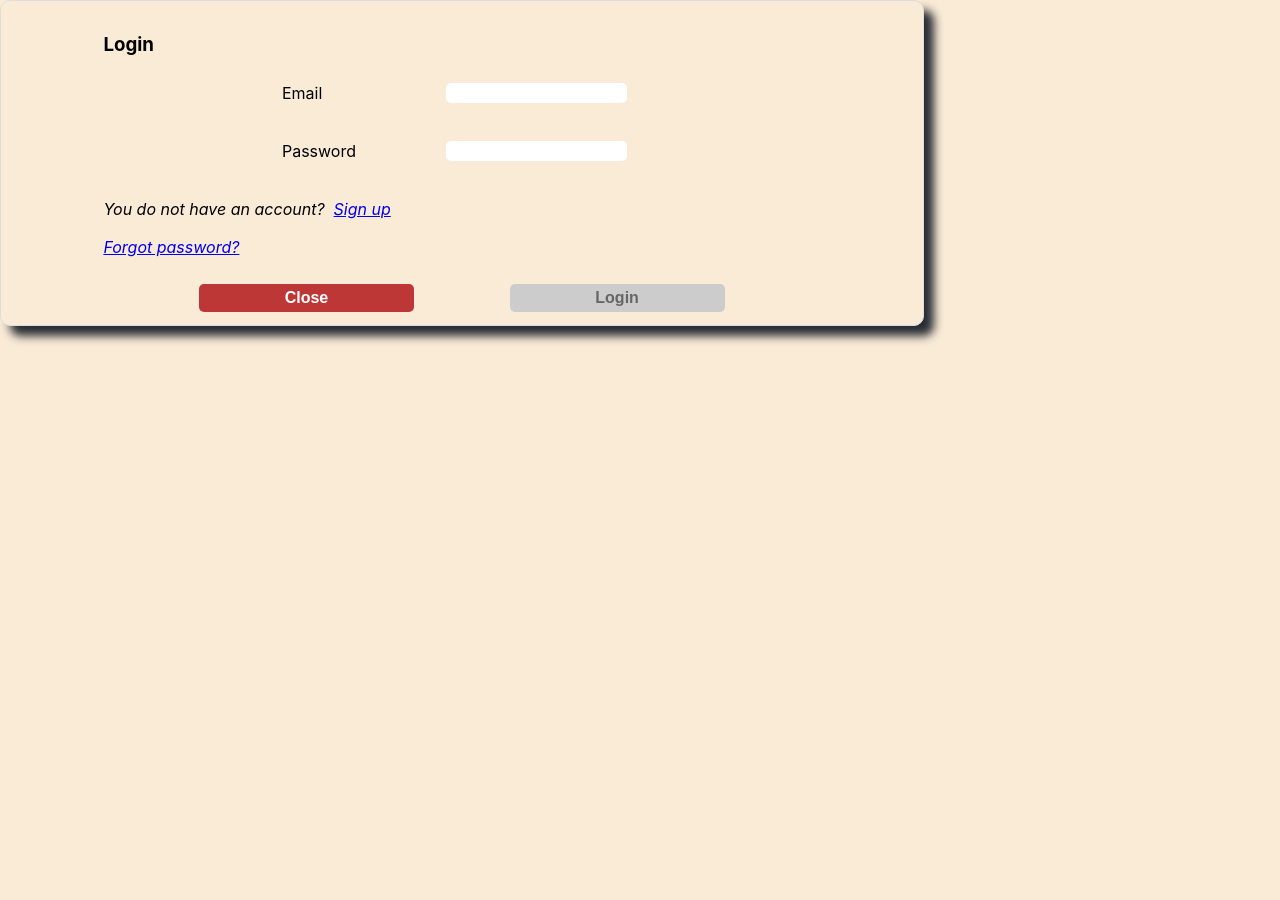
Test: Login › goes back to the page that required the login
This screenshot has width=1280, height=900.
In the field labelled "Email": point(537, 93) x1=446 y1=83 x2=627 y2=103, type "ash@pallet.town"
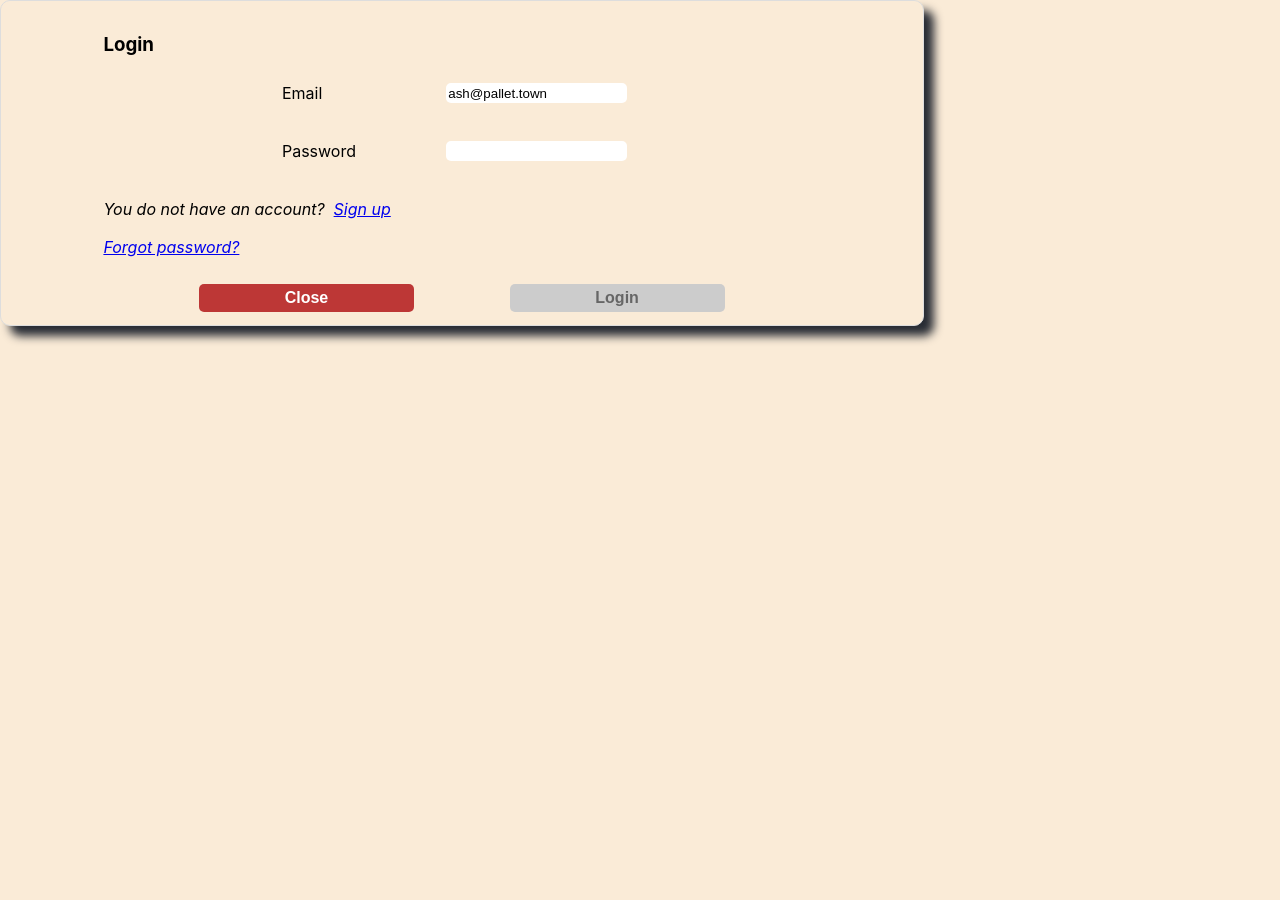
In the password field labelled "Password": point(537, 151) x1=446 y1=141 x2=627 y2=161, type "secret"
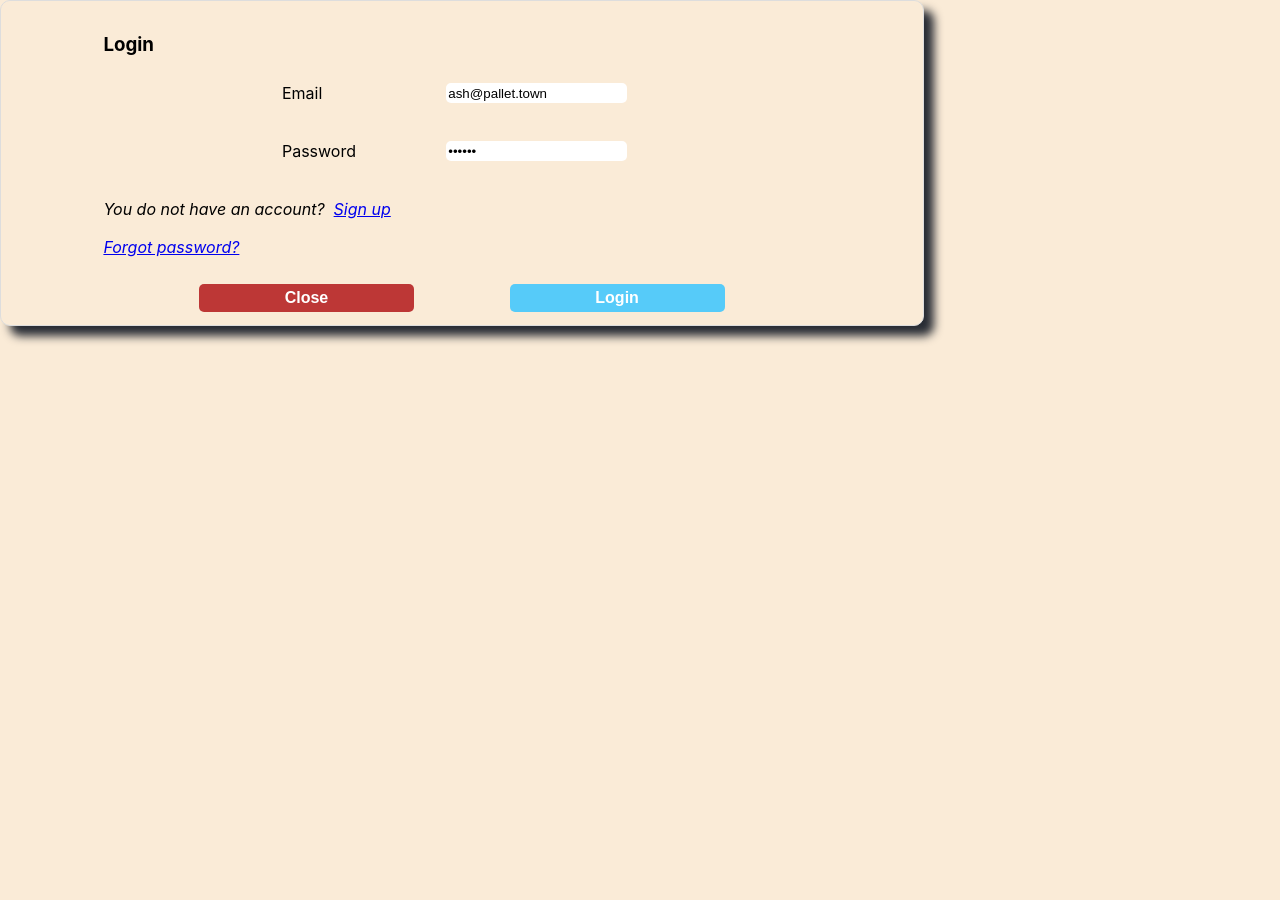
Click the button "Login": point(617, 298) x1=510 y1=284 x2=725 y2=312
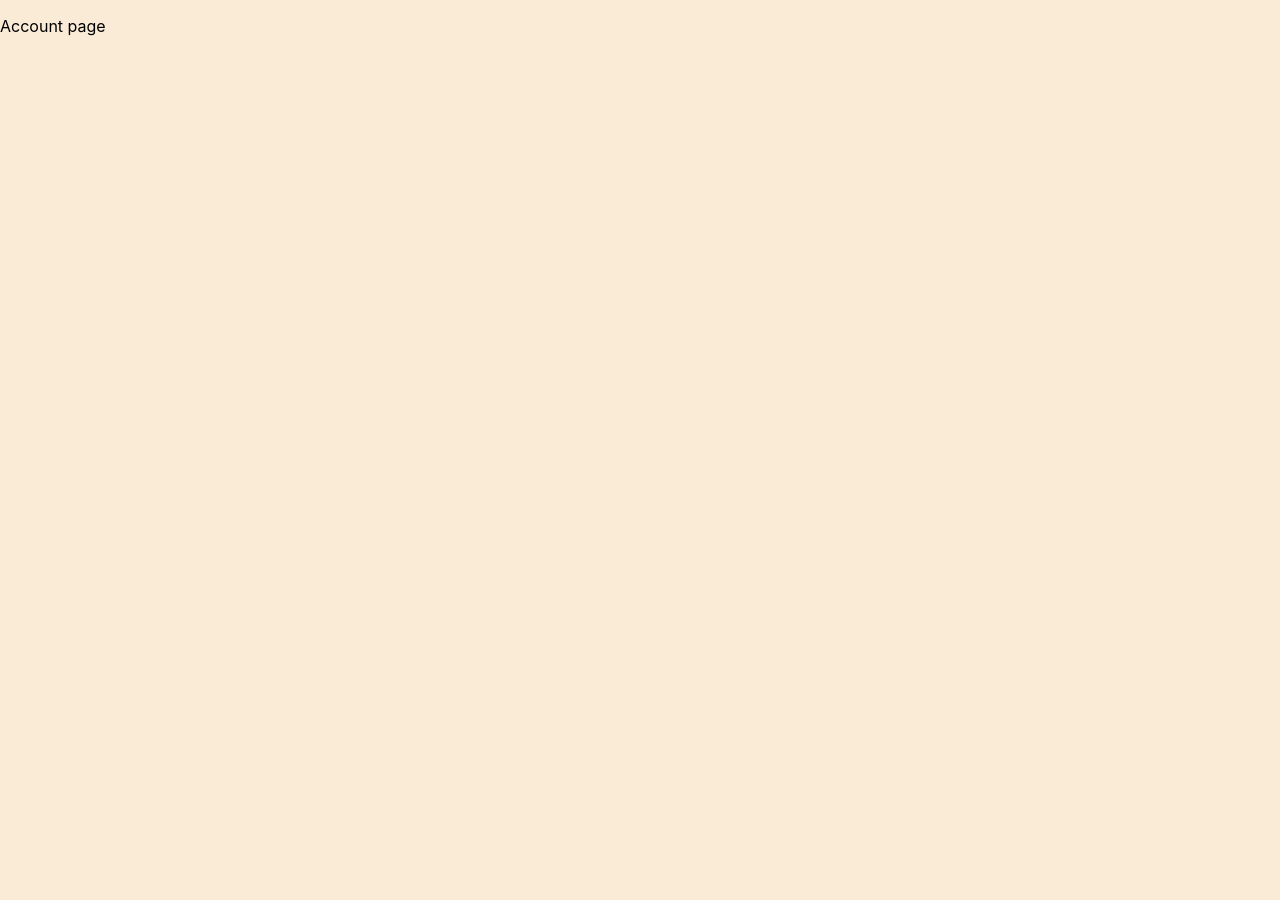
Result: the text "Account page" is shown at x1=0 y1=16 x2=106 y2=36
